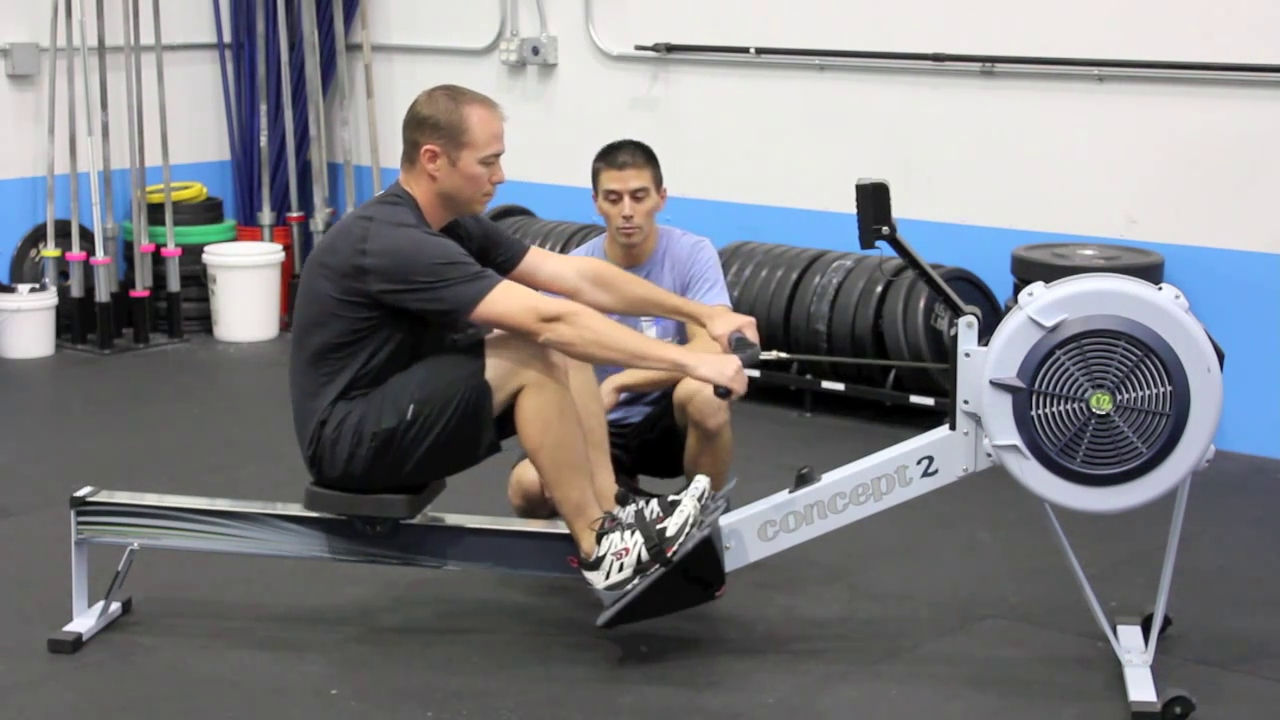person: (290, 84, 761, 606), (503, 138, 736, 517)
